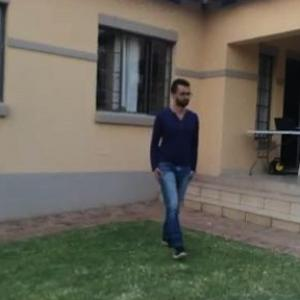follow: (147, 70, 205, 264)
